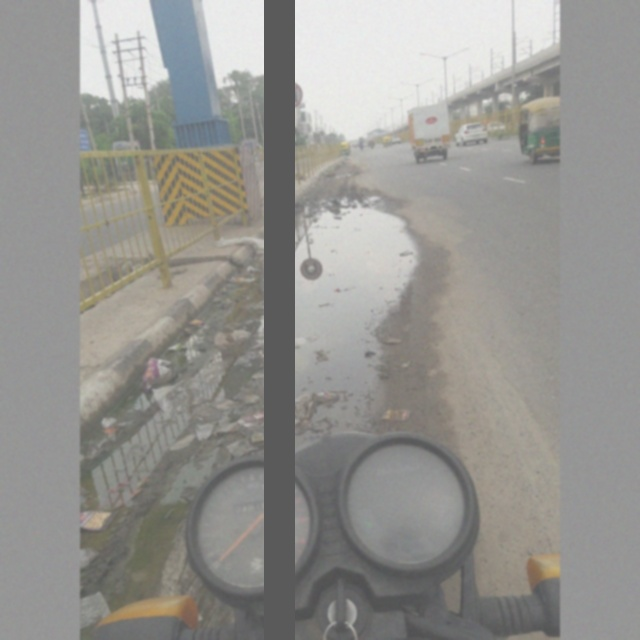U_Turn_Prohibited: (277, 80, 305, 112)
